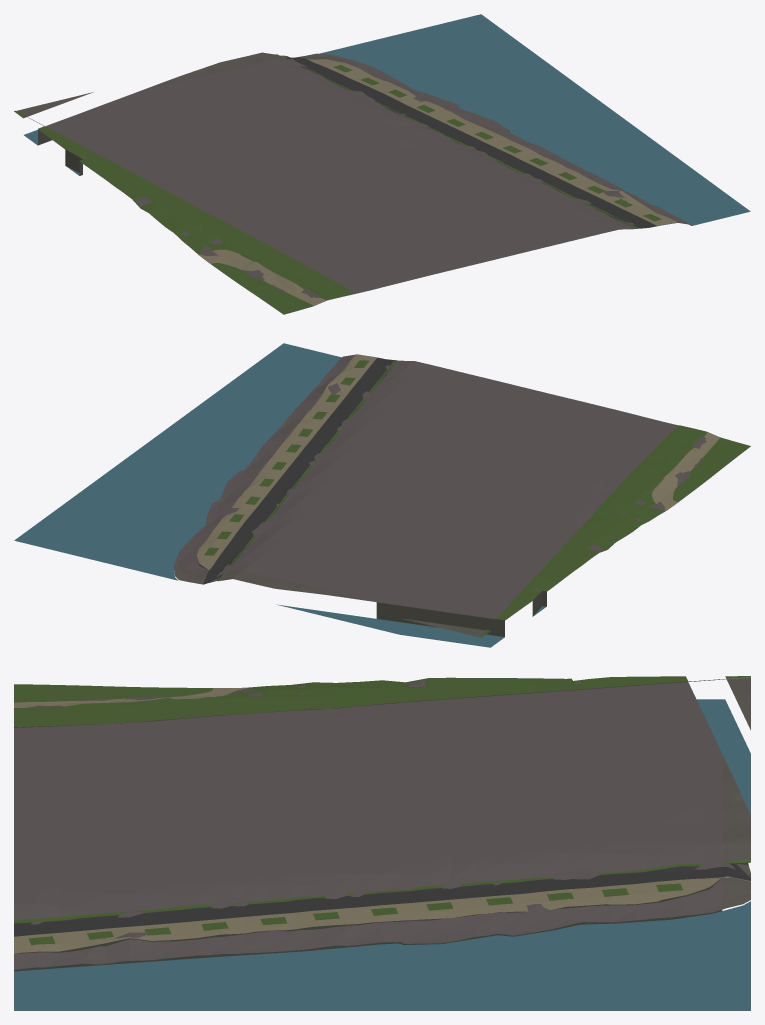
The picture shows the model from 3 angles, top to bottom: view 1: azimuth 30°, elevation 25°; view 2: azimuth 150°, elevation 25°; view 3: azimuth 270°, elevation 25°; orthographic projection. The views are drawn at different scales.
Visible parts, largest first — view 1: c_m06_m09; view 2: c_m06_m09; view 3: c_m06_m09.
Boxes of the visible parts, x1=… form: c_m06_m09: x1=14, y1=14, x2=750, y2=314; c_m06_m09: x1=14, y1=343, x2=750, y2=647; c_m06_m09: x1=14, y1=676, x2=750, y2=1010.
Size of the model in its own units: 128 by 4.47 by 128.
